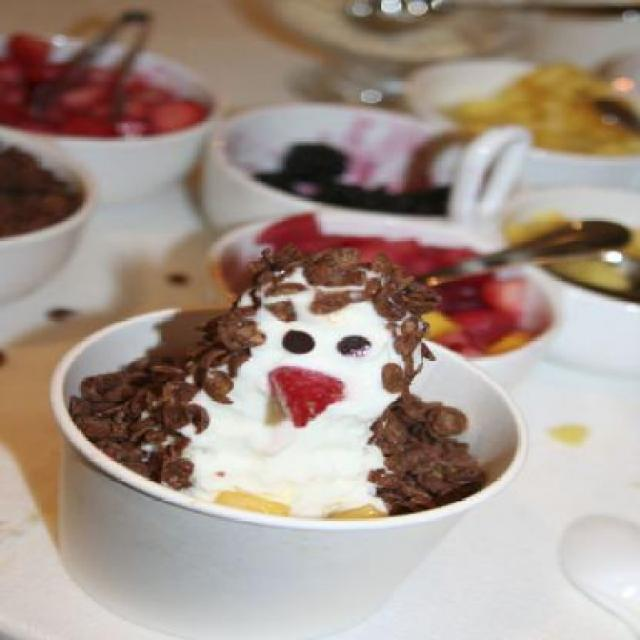Ice cream: (107, 225, 482, 550)
